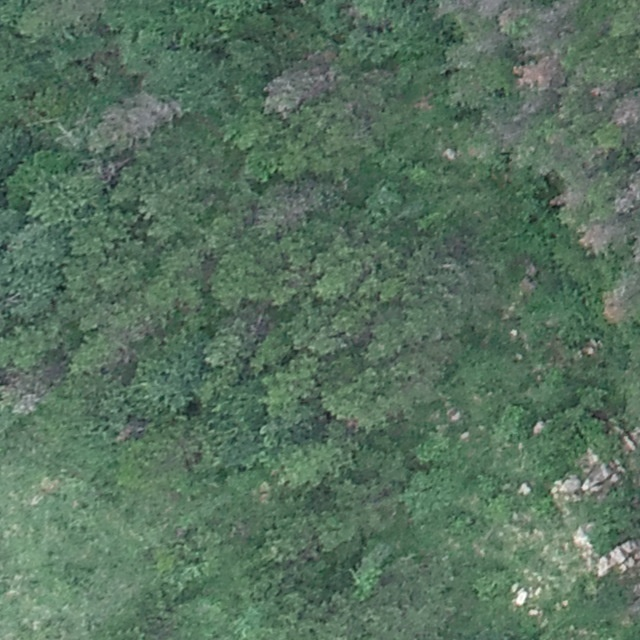unhealthy: (97, 89, 181, 148), (263, 53, 338, 115), (518, 0, 579, 49), (513, 50, 563, 92), (577, 217, 626, 256), (601, 274, 629, 325), (615, 167, 640, 213), (612, 94, 640, 128), (475, 0, 507, 20)
